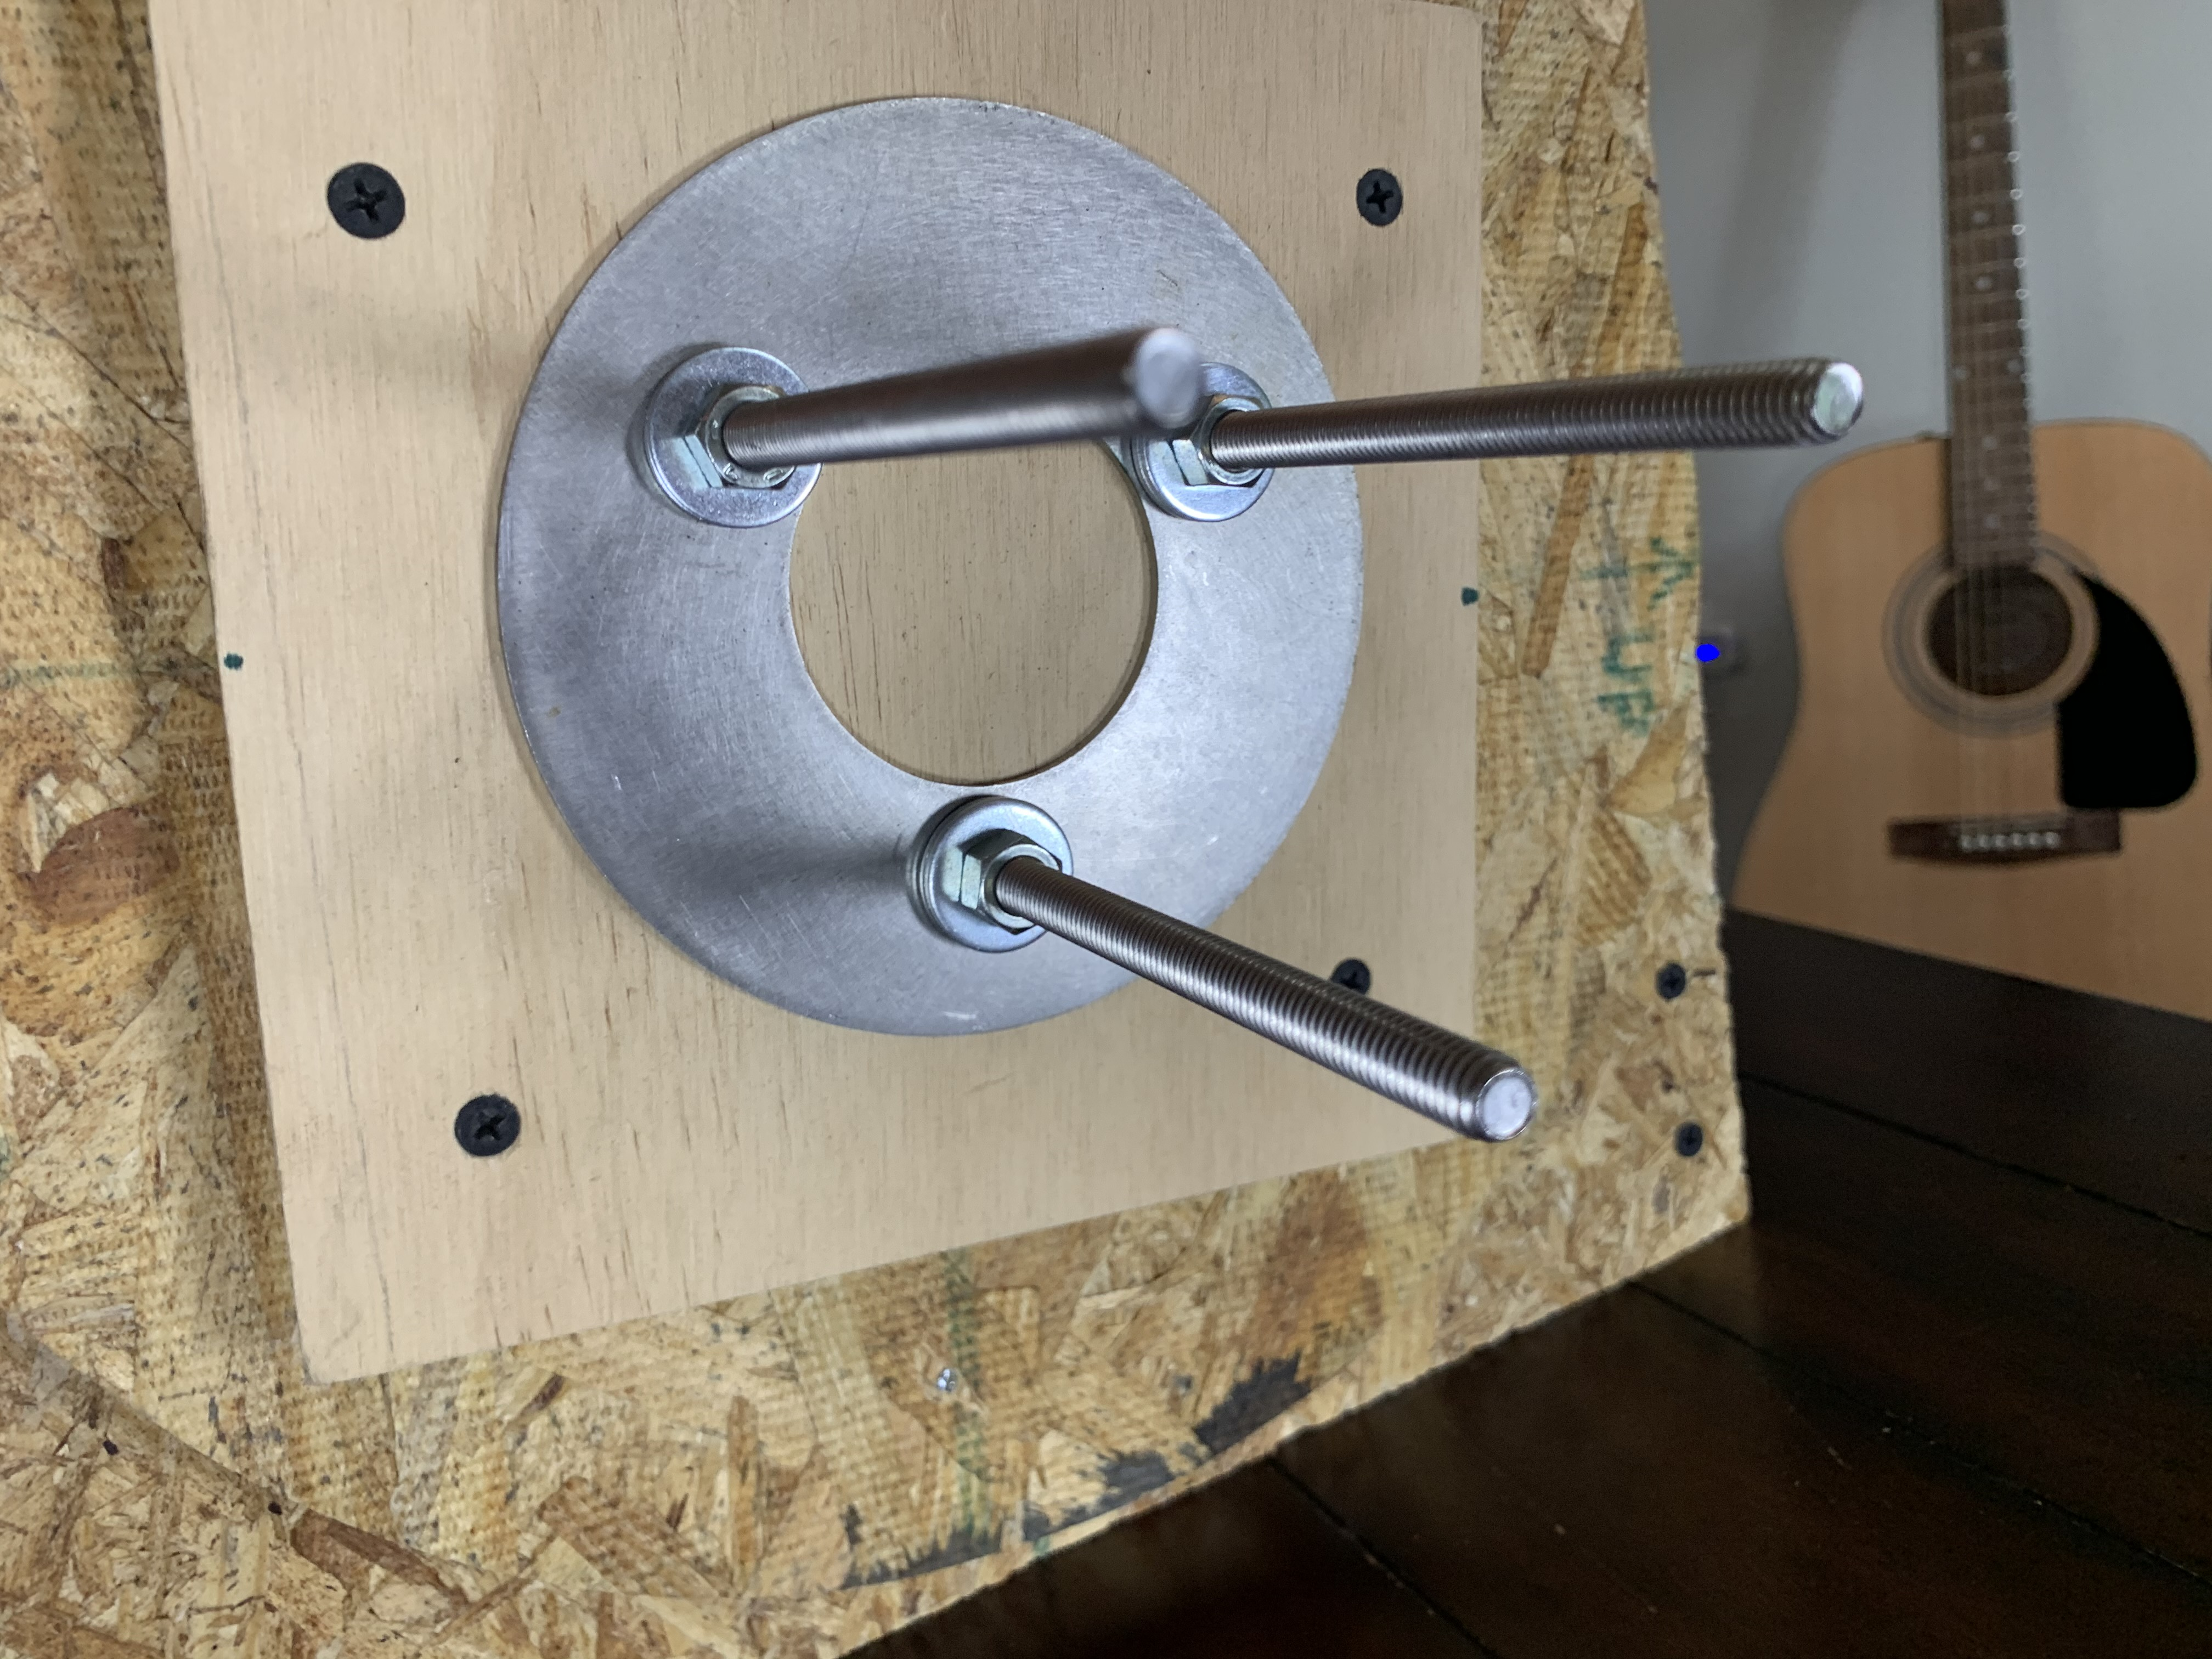bolt: (632, 345, 822, 528), (1118, 361, 1284, 528), (907, 795, 1076, 958)
